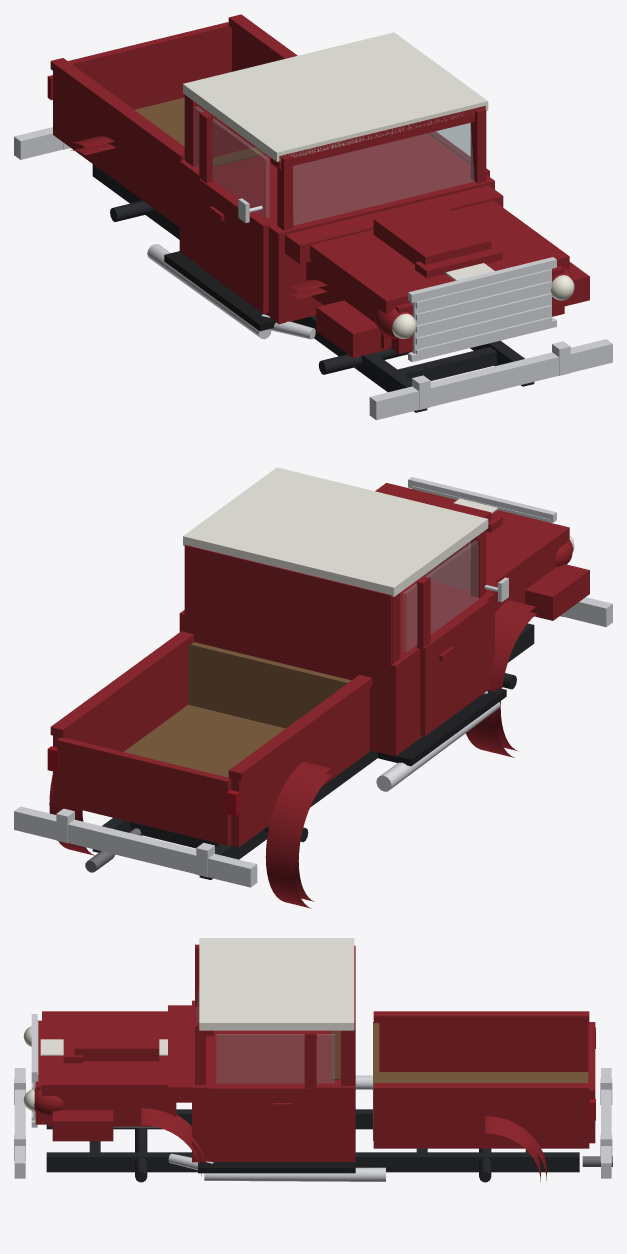
File: tf100-stepside.glb
The picture shows the model from 3 angles, top to bottom: view 1: azimuth 30°, elevation 25°; view 2: azimuth 150°, elevation 25°; view 3: azimuth 270°, elevation 25°; orthographic projection. The views are drawn at different scales.
Parts seen in each view (by area): view 1: cab_shell, roof_panel, hood_stock, glass_windshield, bed_side_left, tailgate, door_left, grille_bars, bumper_front, chassis_frame, hood_scooped, grille_mesh (+9 smaller); view 2: cab_shell, roof_panel, bed_floor, tailgate, bed_side_left, bed_side_right, door_left, bumper_rear, hood_stock, fender_front_left, rear_fender_left, glass_side_left (+8 smaller); view 3: cab_shell, roof_panel, bed_side_right, bed_side_left, hood_stock, door_right, chassis_frame, glass_side_right, hood_scooped, fender_front_right, bed_floor, exhaust_side_right (+8 smaller).
Part boxes in pixels (x1,y1,x2,y2): cab_shell: [179, 95, 503, 324]; roof_panel: [183, 32, 488, 161]; hood_stock: [306, 200, 569, 353]; glass_windshield: [293, 123, 474, 225]; bed_side_left: [50, 58, 184, 227]; tailgate: [68, 22, 231, 109]; door_left: [198, 111, 269, 313]; grille_bars: [408, 257, 556, 356]; bumper_front: [369, 339, 612, 420]; chassis_frame: [92, 164, 534, 412]; hood_scooped: [373, 203, 502, 278]; grille_mesh: [408, 262, 556, 361]; cab_shell: [179, 530, 503, 756]; roof_panel: [183, 467, 488, 596]; bed_floor: [124, 642, 351, 845]; tailgate: [57, 737, 231, 845]; bed_side_left: [228, 674, 372, 847]; bed_side_right: [50, 631, 193, 802]; door_left: [417, 576, 489, 735]; bumper_rear: [14, 806, 257, 887]; hood_stock: [375, 483, 569, 613]; fender_front_left: [466, 540, 589, 757]; rear_fender_left: [265, 761, 332, 908]; glass_side_left: [403, 540, 478, 652]; cab_shell: [168, 944, 355, 1162]; roof_panel: [199, 938, 354, 1030]; bed_side_right: [373, 1083, 589, 1148]; bed_side_left: [373, 1011, 589, 1071]; hood_stock: [35, 1011, 176, 1126]; door_right: [209, 1031, 316, 1160]; chassis_frame: [46, 1109, 579, 1182]; glass_side_right: [216, 1034, 334, 1083]; hood_scooped: [63, 1022, 159, 1063]; fender_front_right: [34, 1088, 205, 1176]; bed_floor: [373, 1022, 588, 1140]; exhaust_side_right: [168, 1153, 385, 1181].
Size of the model in its own units: 2 by 1.93 by 4.94.
